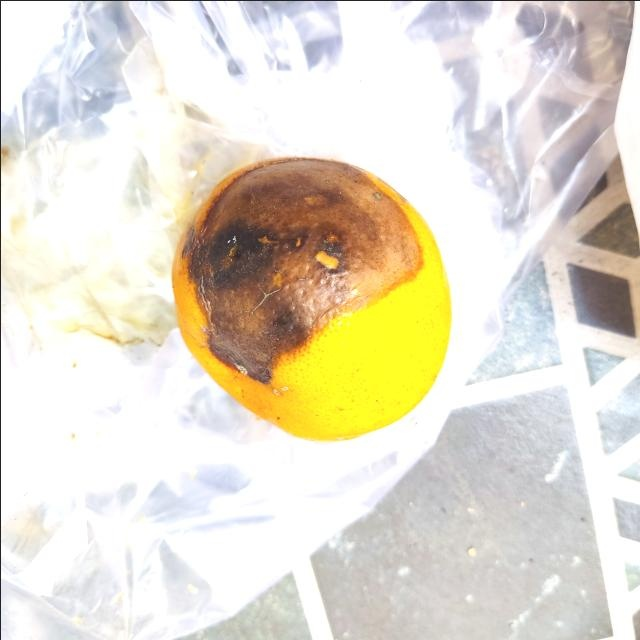agrume: (171, 155, 453, 445)
